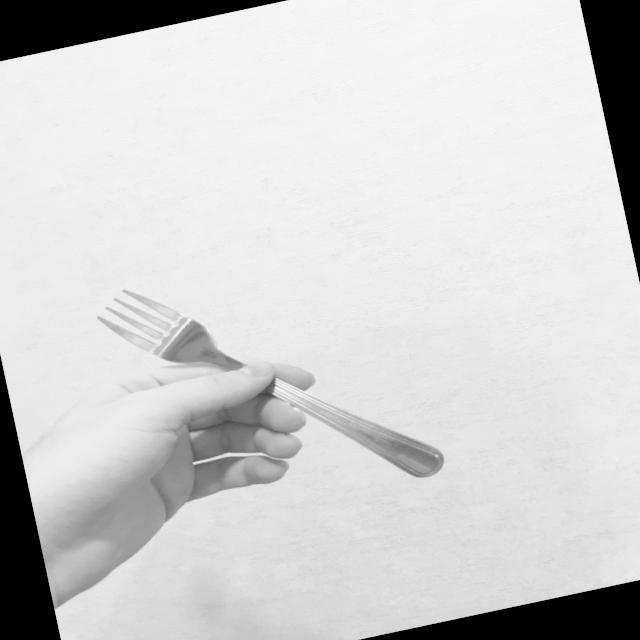fork: (88, 230, 446, 538)
